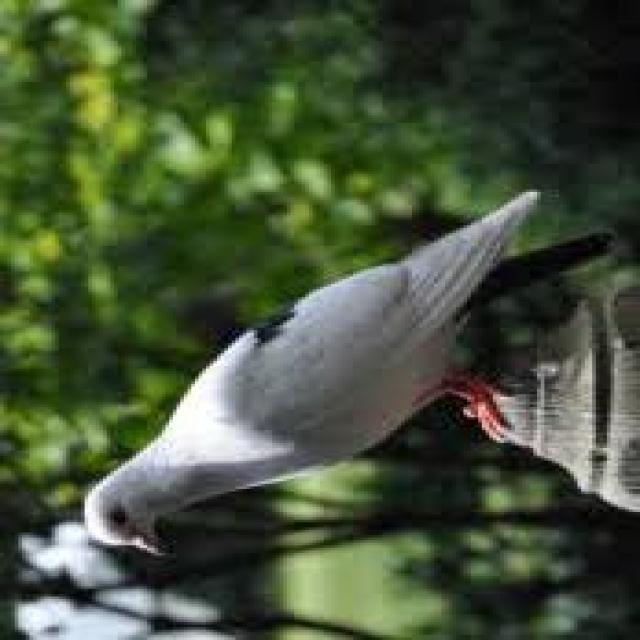pigeon: (83, 183, 540, 617)
